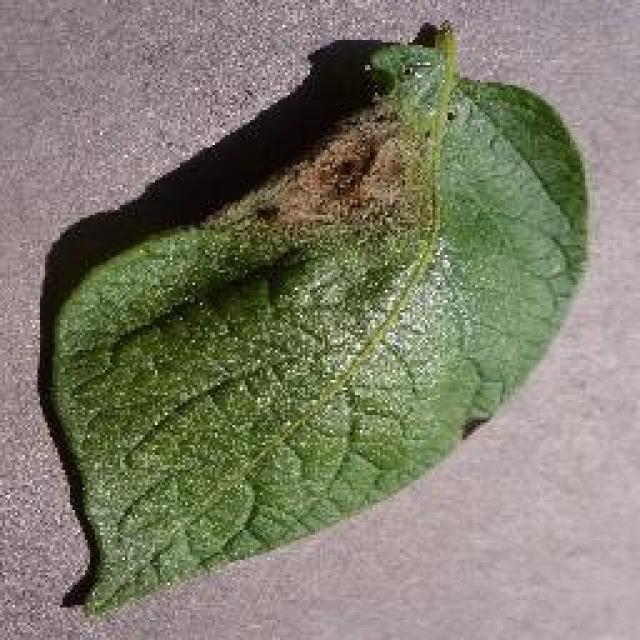Potato___Late_blight: (48, 15, 591, 618)
